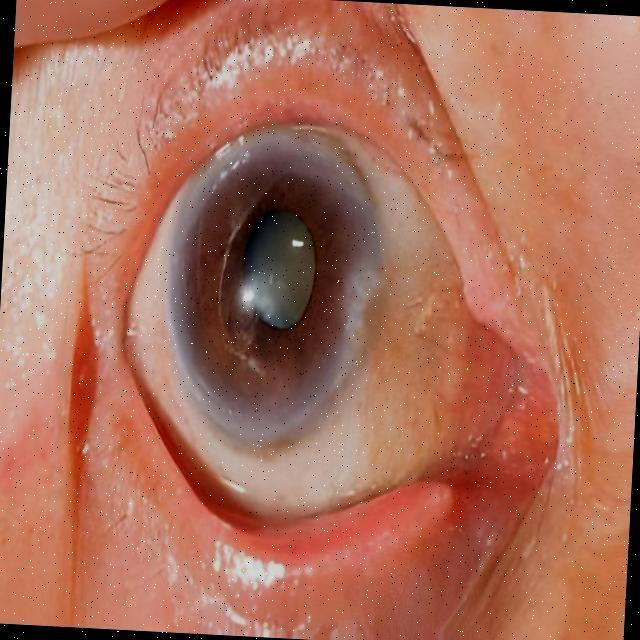Cataract: (153, 115, 384, 472)
